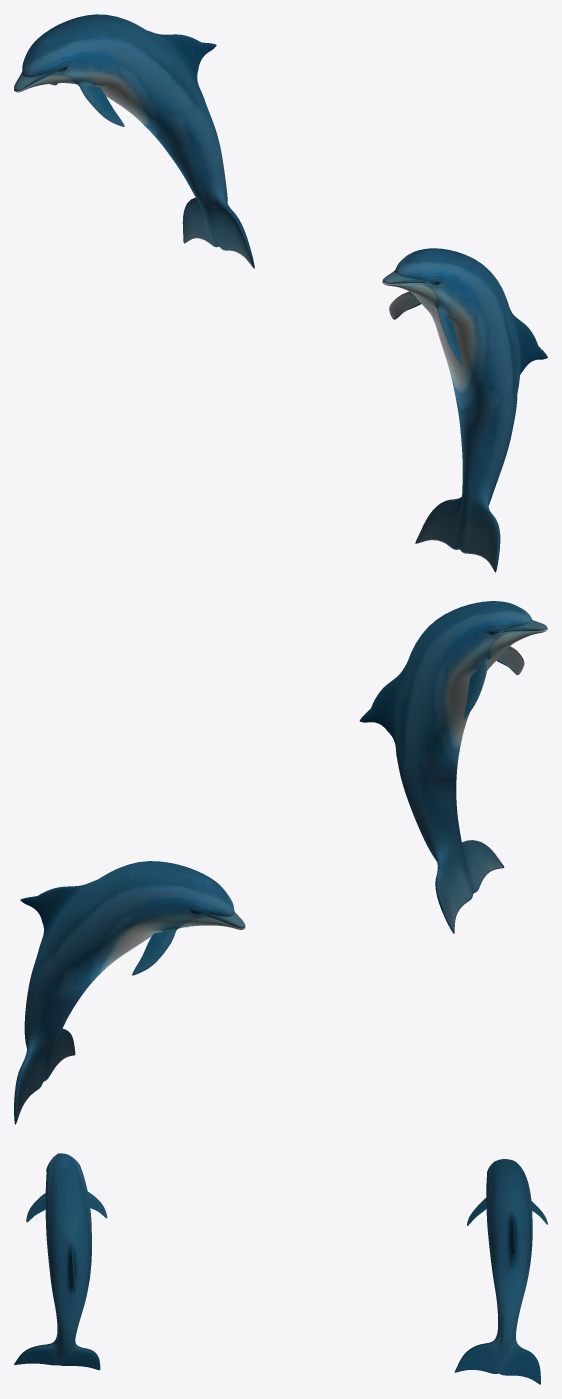
The model's file is dolphin.glb.
The picture shows the model from 3 angles, top to bottom: view 1: azimuth 30°, elevation 25°; view 2: azimuth 150°, elevation 25°; view 3: azimuth 270°, elevation 25°; orthographic projection. The views are drawn at different scales.
Visible parts, largest first — view 1: dolphin2, dolphin1; view 2: dolphin2, dolphin1; view 3: dolphin1, dolphin2.
Boxes of the visible parts, left/top/right/bottom form: dolphin2: left=382, top=248, right=547, bottom=572; dolphin1: left=14, top=14, right=254, bottom=268; dolphin2: left=359, top=601, right=547, bottom=933; dolphin1: left=14, top=861, right=245, bottom=1124; dolphin1: left=454, top=1159, right=547, bottom=1384; dolphin2: left=14, top=1153, right=107, bottom=1370.
Size of the model in its own units: 0.5168 by 0.7244 by 1.7.
2 materials, 2 textured.
